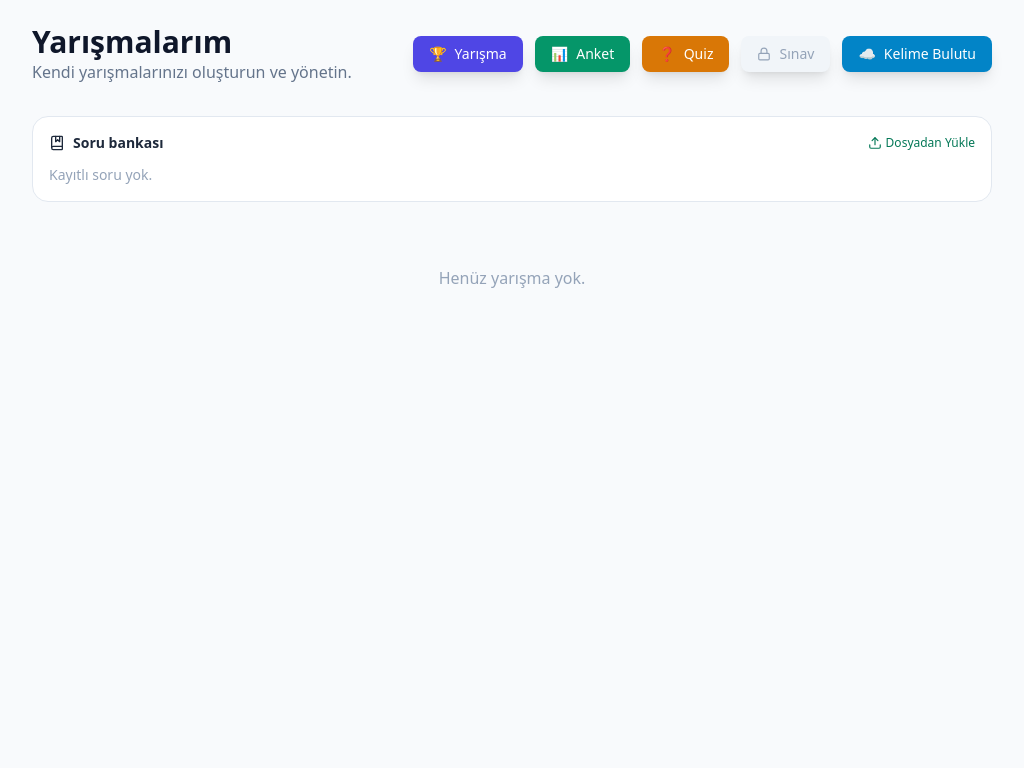
Test case: content-type gates › locks exam create when the plan does not include it
Step 1. Click the button "Sınav" → (786, 54), box [742,36,830,72]
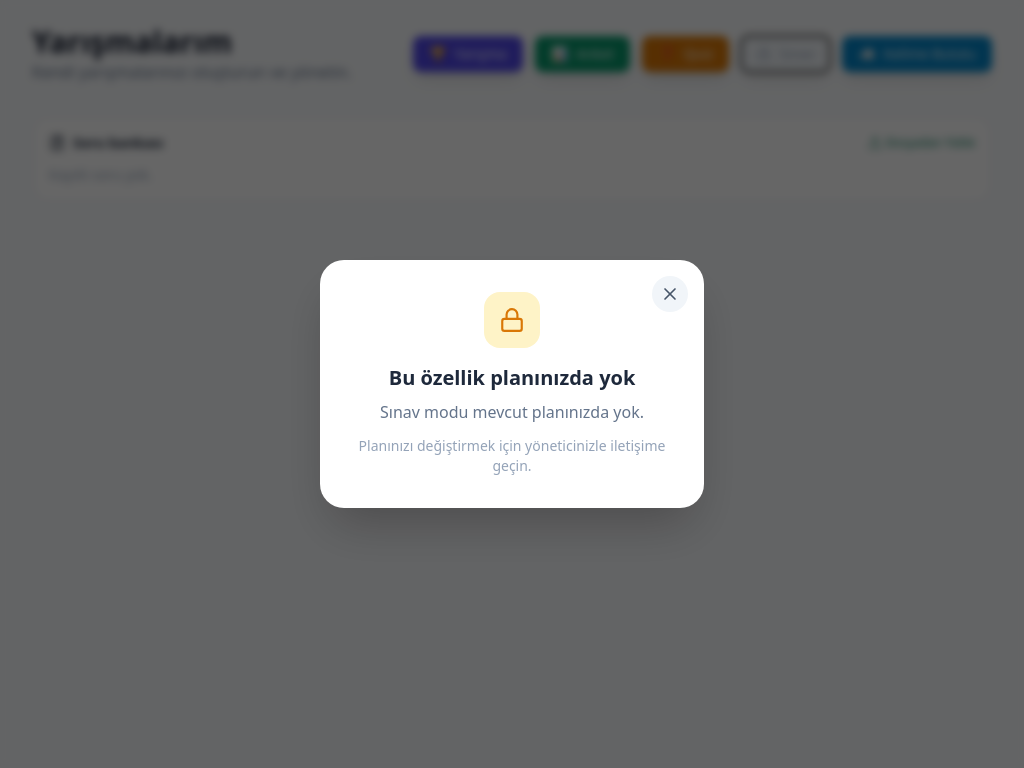
Check: the text "Sınav modu mevcut planınızda yok." is shown, box [380,400,644,424]
